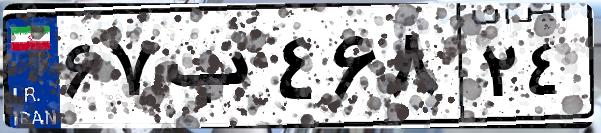2: (475, 38, 525, 113)
4: (270, 28, 330, 110), (525, 38, 570, 115)
6: (330, 28, 385, 110), (57, 26, 110, 100)
7: (110, 28, 158, 98)
8: (385, 28, 445, 110)
ب: (158, 20, 270, 120)
